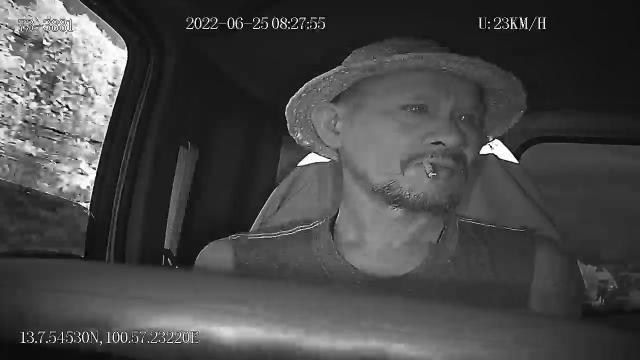SafeDriving: (394, 94, 434, 119)
Smoking: (420, 158, 438, 180)
